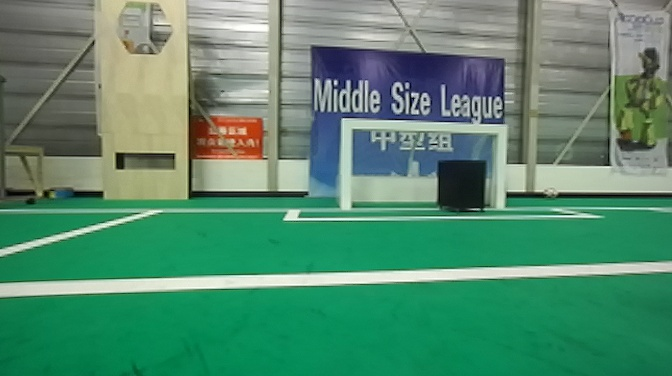ball: (543, 185, 560, 198)
goalpost: (336, 117, 354, 208), (495, 124, 506, 210)
